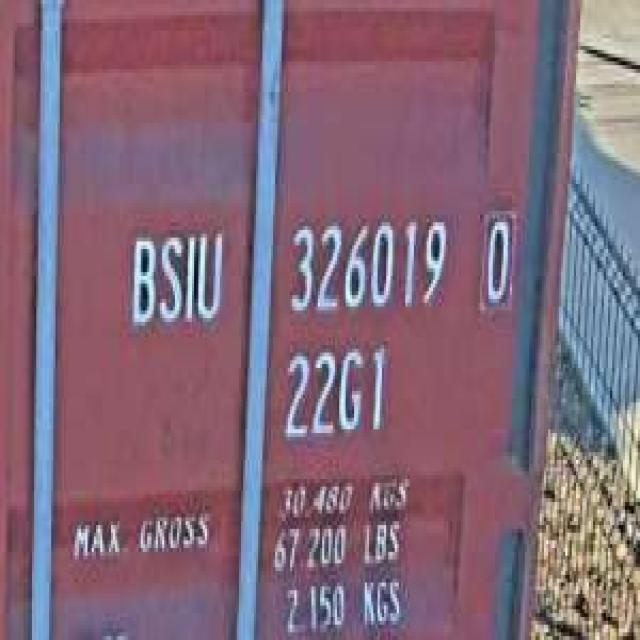dv: (478, 200, 516, 314)
owner: (124, 218, 226, 334)
serial: (282, 203, 452, 326)
size: (278, 338, 390, 448)
